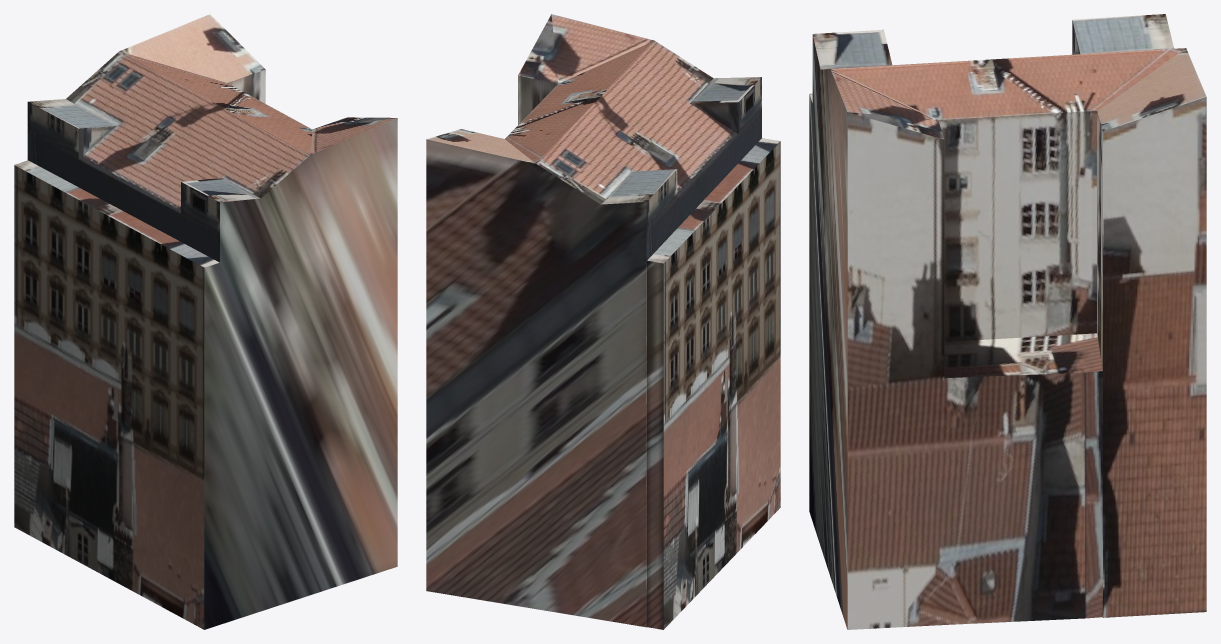
3 views of the same model, side by side, from view 1: azimuth 30°, elevation 25°; view 2: azimuth 150°, elevation 25°; view 3: azimuth 270°, elevation 25° (orthographic). The views are drawn at different scales.
Visible parts, largest first — view 1: Z_UP; view 2: Z_UP; view 3: Z_UP.
Part boxes in pixels (box(x1,y1,x2,y2)): Z_UP: box(14, 14, 397, 629); Z_UP: box(426, 14, 780, 629); Z_UP: box(809, 14, 1206, 629).
Bounding box in the file's own units: 14.35 × 24.89 × 17.3.
Materials: 2 (1 with a texture image).
